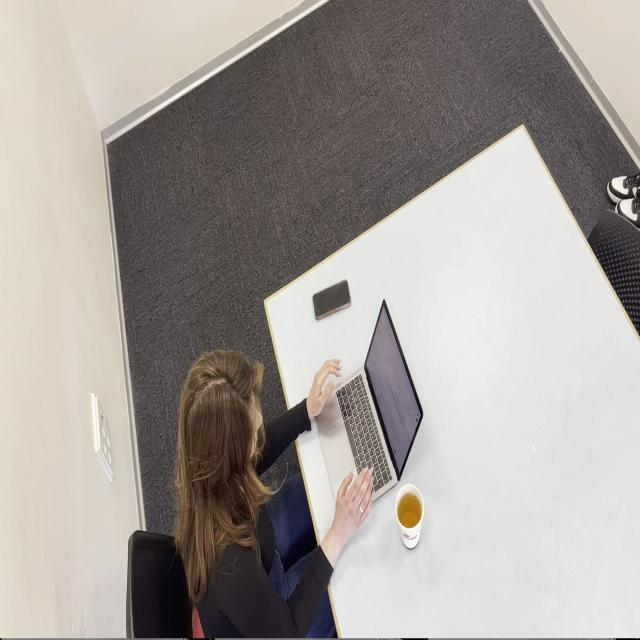bag: (312, 278, 351, 320)
ipad: (174, 348, 375, 639)
laptop: (314, 298, 424, 507)
